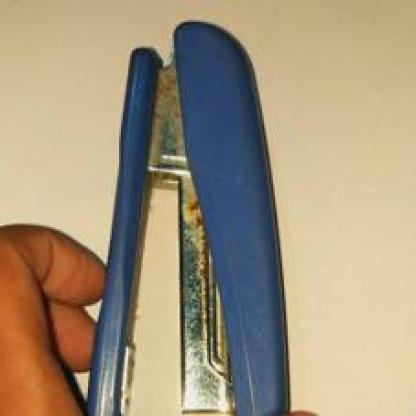stapler: (69, 29, 312, 414)
